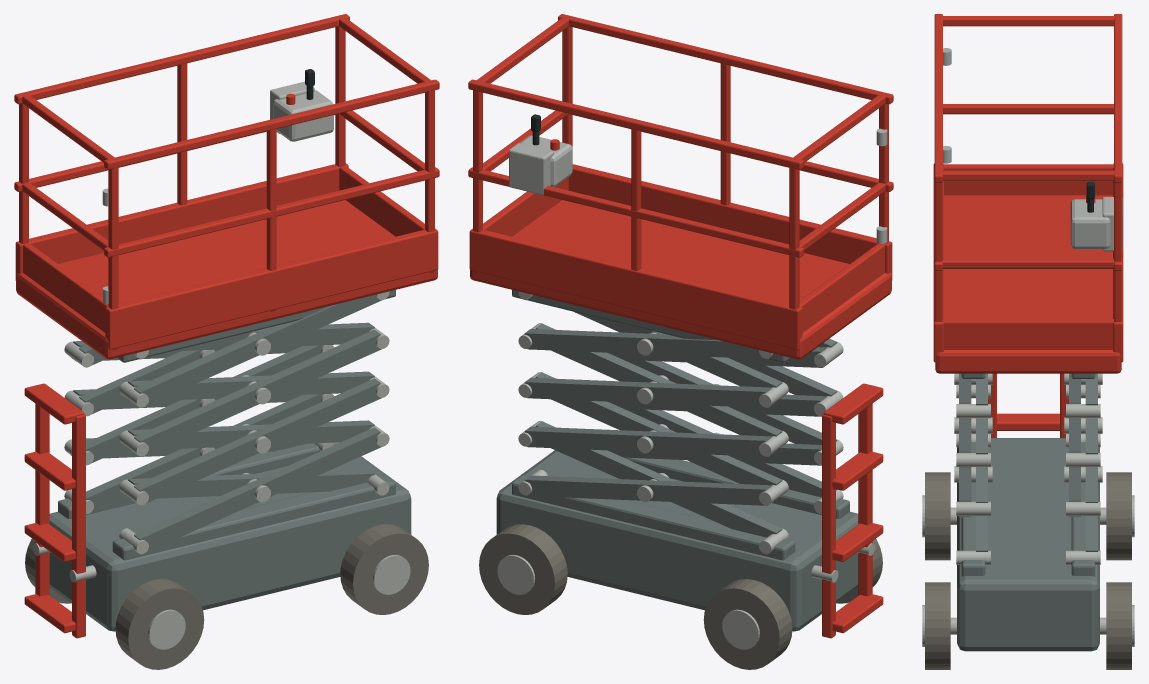
File: full.glb
The picture shows the model from 3 angles, left to right: view 1: azimuth 30°, elevation 25°; view 2: azimuth 150°, elevation 25°; view 3: azimuth 270°, elevation 25°; orthographic projection.
Visible parts, largest first — view 1: Closed generic vehicle chassis, Raised platform deck, Side toe board -1, Side toe board 1, Scissor A -0.3 0, Scissor A -0.3 1, Scissor A -0.3 2, Wheel -0.71 -1, Wheel 0.71 -1, Lower guide -0.3, Scissor A -0.3 3, Side rail -1 3.09 (+34 smaller); view 2: Closed generic vehicle chassis, Raised platform deck, Side toe board 1, Side toe board -1, Wheel -0.71 1, Wheel 0.71 1, Lower guide 0.3, Scissor B 0.3 0, Scissor B 0.3 1, Scissor B 0.3 2, Scissor B 0.3 3, Side rail 1 3.09 (+37 smaller); view 3: Closed generic vehicle chassis, Raised platform deck, End toe board 1.0, End toe board -1.0, Wheel -0.71 -1, Wheel -0.71 1, Wheel 0.71 -1, Wheel 0.71 1, End rail -1.0 3.09, End rail 1.0 3.09, End rail 1.0 2.56, End rail -1.0 2.56 (+35 smaller).
Boxes of the visible parts, bbox=[...] form: Closed generic vehicle chassis: bbox=[49, 456, 411, 631]; Raised platform deck: bbox=[16, 200, 437, 359]; Side toe board -1: bbox=[105, 228, 438, 349]; Side toe board 1: bbox=[15, 163, 348, 280]; Scissor A -0.3 0: bbox=[134, 427, 382, 552]; Scissor A -0.3 1: bbox=[134, 378, 381, 503]; Scissor A -0.3 2: bbox=[134, 329, 381, 454]; Wheel -0.71 -1: bbox=[115, 579, 204, 669]; Wheel 0.71 -1: bbox=[340, 524, 428, 614]; Lower guide -0.3: bbox=[112, 475, 395, 560]; Scissor A -0.3 3: bbox=[134, 295, 381, 405]; Side rail -1 3.09: bbox=[104, 79, 439, 169]; Closed generic vehicle chassis: bbox=[496, 450, 858, 631]; Raised platform deck: bbox=[470, 200, 891, 359]; Side toe board 1: bbox=[469, 228, 802, 349]; Side toe board -1: bbox=[568, 164, 892, 280]; Wheel -0.71 1: bbox=[703, 579, 792, 669]; Wheel 0.71 1: bbox=[479, 524, 567, 614]; Lower guide 0.3: bbox=[512, 475, 795, 560]; Scissor B 0.3 0: bbox=[524, 475, 773, 505]; Scissor B 0.3 1: bbox=[524, 426, 773, 456]; Scissor B 0.3 2: bbox=[524, 377, 773, 407]; Scissor B 0.3 3: bbox=[524, 329, 768, 359]; Side rail 1 3.09: bbox=[468, 79, 803, 169]; Closed generic vehicle chassis: bbox=[957, 438, 1099, 651]; Raised platform deck: bbox=[935, 195, 1121, 373]; End toe board 1.0: bbox=[943, 319, 1113, 349]; End toe board -1.0: bbox=[943, 164, 1113, 195]; Wheel -0.71 -1: bbox=[925, 472, 950, 560]; Wheel -0.71 1: bbox=[1106, 472, 1131, 560]; Wheel 0.71 -1: bbox=[925, 582, 950, 669]; Wheel 0.71 1: bbox=[1106, 582, 1131, 669]; End rail -1.0 3.09: bbox=[942, 16, 1114, 26]; End rail 1.0 3.09: bbox=[942, 170, 1114, 180]; End rail 1.0 2.56: bbox=[942, 258, 1114, 268]; End rail -1.0 2.56: bbox=[943, 104, 1113, 114].
Size of the model in its own units: 2.2 by 3.11 by 1.16.
